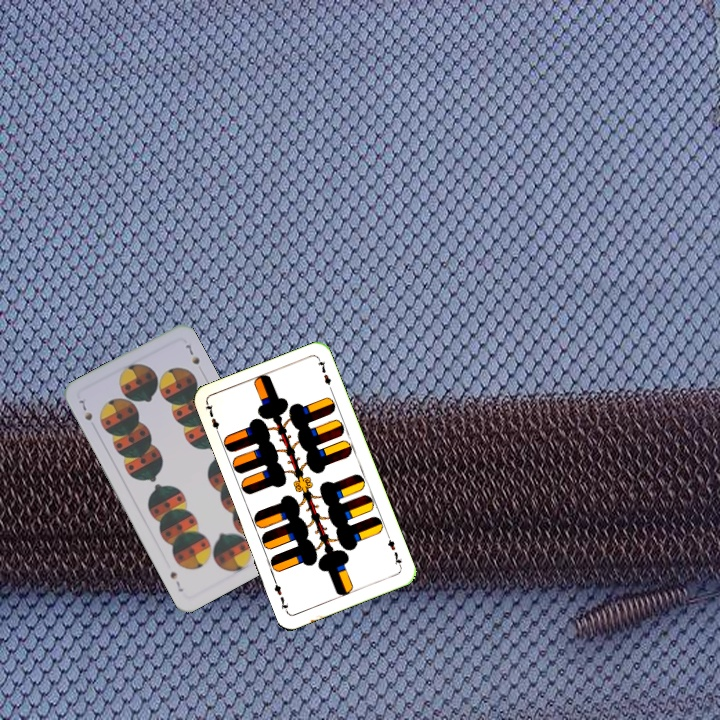E7: (383, 531, 405, 570), (201, 400, 223, 439)
S7: (75, 395, 95, 423)
